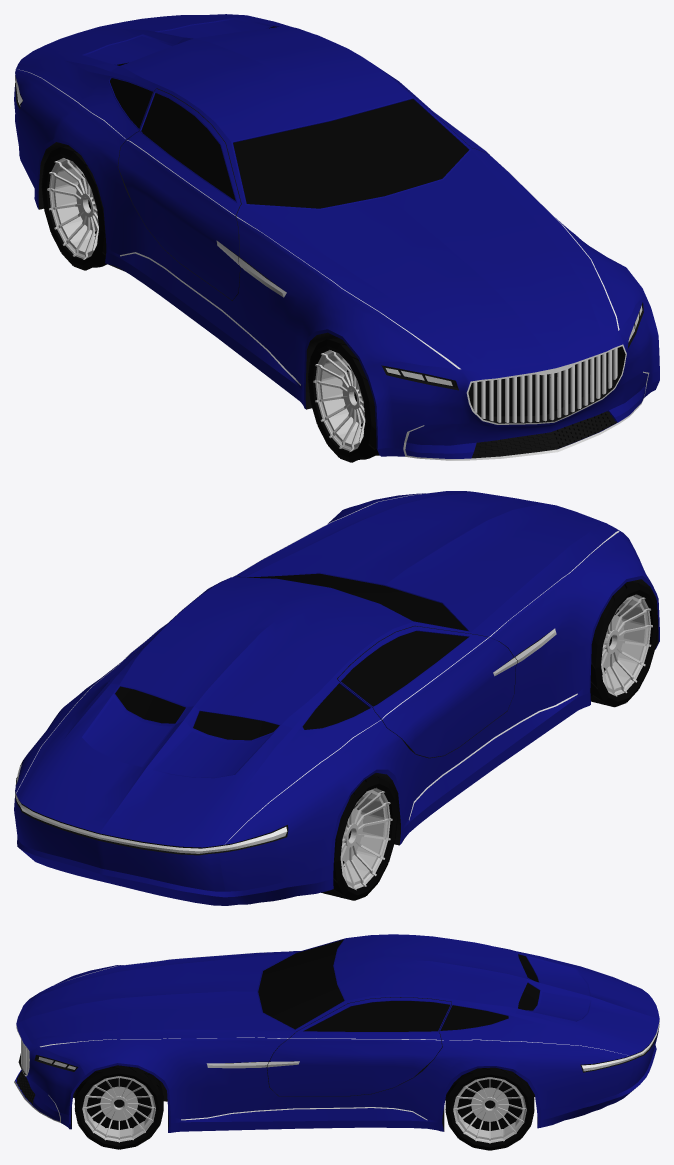
The model's file is Mercedes Vision.fbx.
3 renders of one model, top to bottom at view 1: azimuth 30°, elevation 25°; view 2: azimuth 150°, elevation 25°; view 3: azimuth 270°, elevation 25°, orthographic. The views are drawn at different scales.
Parts seen in each view (by area): view 1: Vision, Grid, Wheel.001, Wheel.003, Wheel, BumperGrid, Wheel.002; view 2: Vision, Wheel.001, Wheel.003, Wheel, Wheel.002; view 3: Vision, Wheel, Wheel.002, Wheel.003, Wheel.001.
Part boxes in pixels (bbox=[...]): Vision: bbox=[14, 14, 659, 460]; Grid: bbox=[473, 348, 617, 422]; Wheel.001: bbox=[313, 350, 365, 452]; Wheel.003: bbox=[47, 158, 98, 259]; Wheel: bbox=[308, 337, 379, 462]; BumperGrid: bbox=[471, 411, 616, 458]; Wheel.002: bbox=[41, 145, 107, 270]; Vision: bbox=[14, 491, 659, 905]; Wheel.001: bbox=[601, 594, 652, 696]; Wheel.003: bbox=[340, 787, 392, 890]; Wheel: bbox=[590, 581, 658, 707]; Wheel.002: bbox=[321, 775, 397, 900]; Vision: bbox=[14, 934, 659, 1132]; Wheel: bbox=[74, 1065, 163, 1149]; Wheel.002: bbox=[445, 1067, 534, 1150]; Wheel.003: bbox=[453, 1077, 526, 1143]; Wheel.001: bbox=[82, 1076, 155, 1142].
Size of the model in its own units: 245 by 157 by 656.
